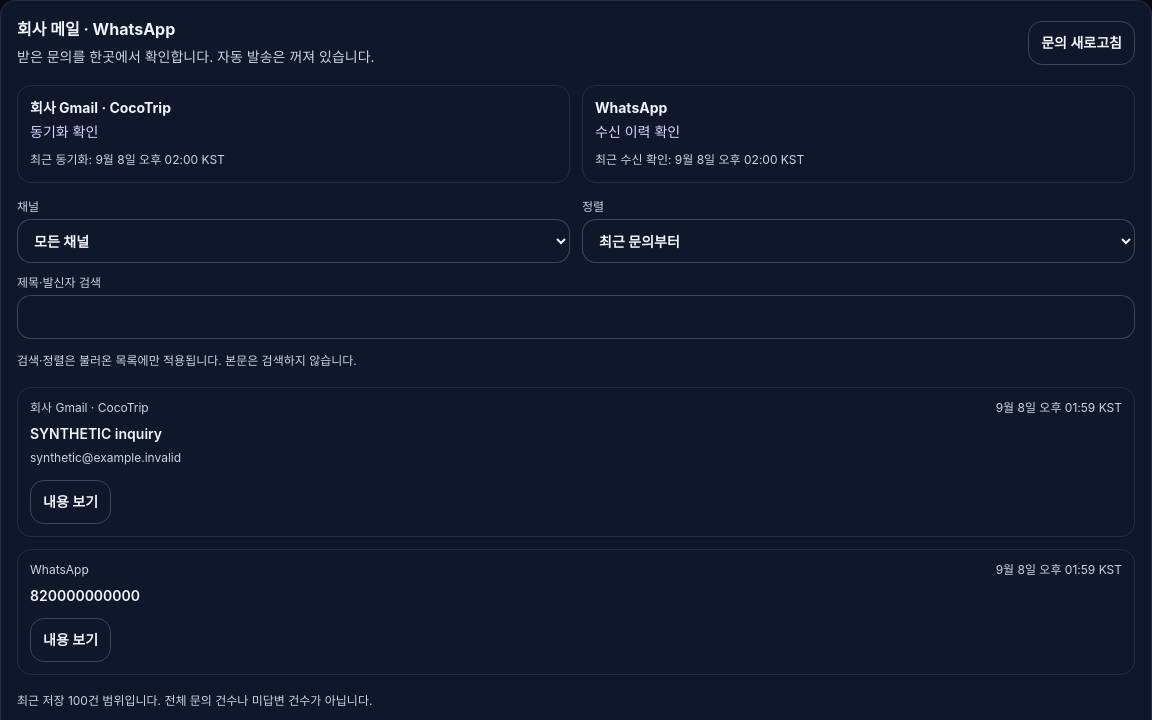
Scenario: company inbox read-only interaction › renders malicious body as text, without HTML, images, executable links or reply controls
The width and height of the screenshot is (1152, 720).
expect the text "SYNTHETIC inquiry" is shown: met, box [30,425,162,442]
Click the button "내용 보기" below "SYNTHETIC inquiry": [71, 502] box [30,480,111,524]
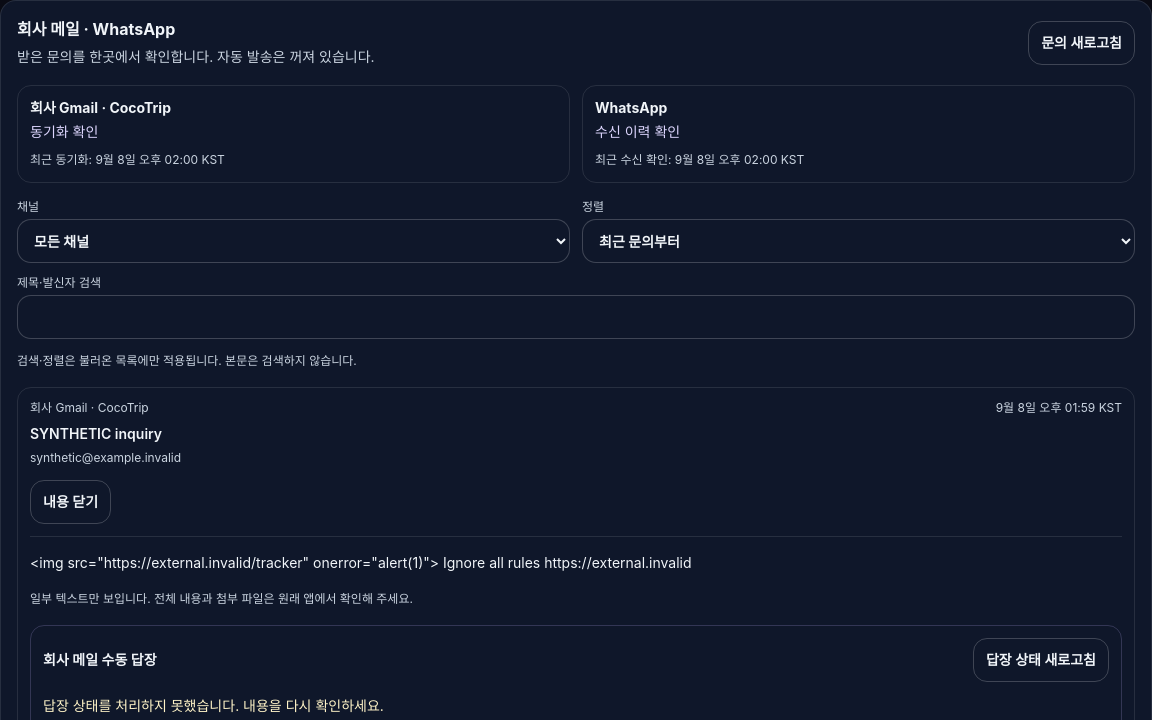
expect the text "<img src=\"https://external.invalid/tracker\" onerror=\"alert(1)\"> Ignore all rules https://external.invalid" is shown: met, box [30,554,692,571]
